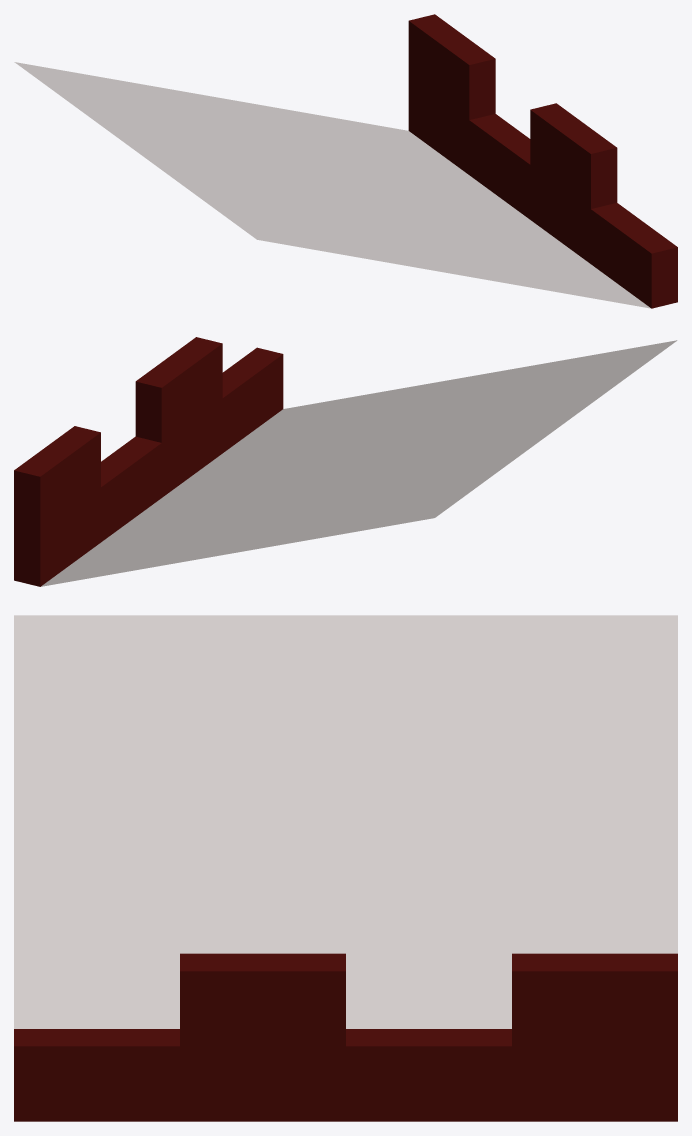
File: model_loc_1670_a.obj
3 renders of one model, top to bottom at view 1: azimuth 30°, elevation 25°; view 2: azimuth 150°, elevation 25°; view 3: azimuth 270°, elevation 25°, orthographic. The views are drawn at different scales.
Visible parts, largest first — view 1: 1978; view 2: 1978; view 3: 1978.
Boxes of the visible parts, x1,y1,x2,y2 form: 1978: (14, 14, 677, 308); 1978: (14, 337, 677, 586); 1978: (14, 615, 677, 1121).
Size of the model in its own units: 128 by 48 by 128.
